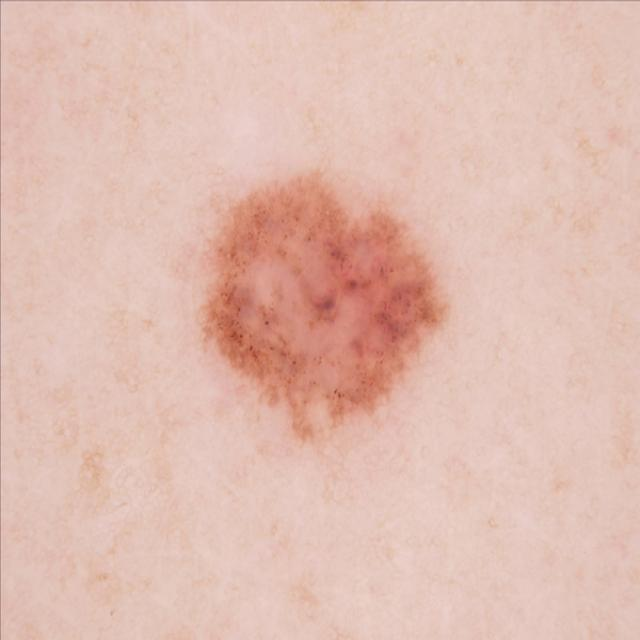Skin-Cancer Basal cell carcinoma: (129, 106, 550, 640)
